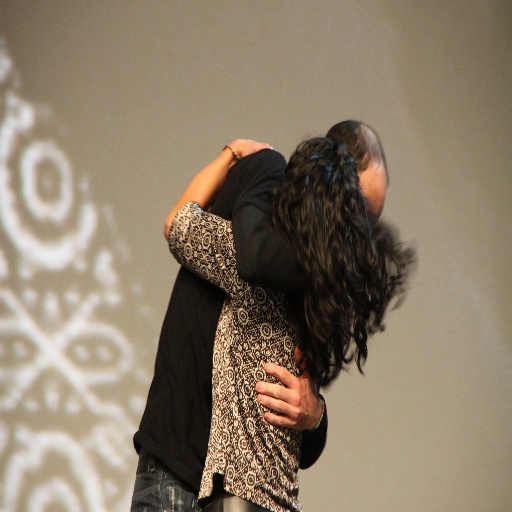hand: (254, 346, 324, 428), (230, 135, 274, 164)
